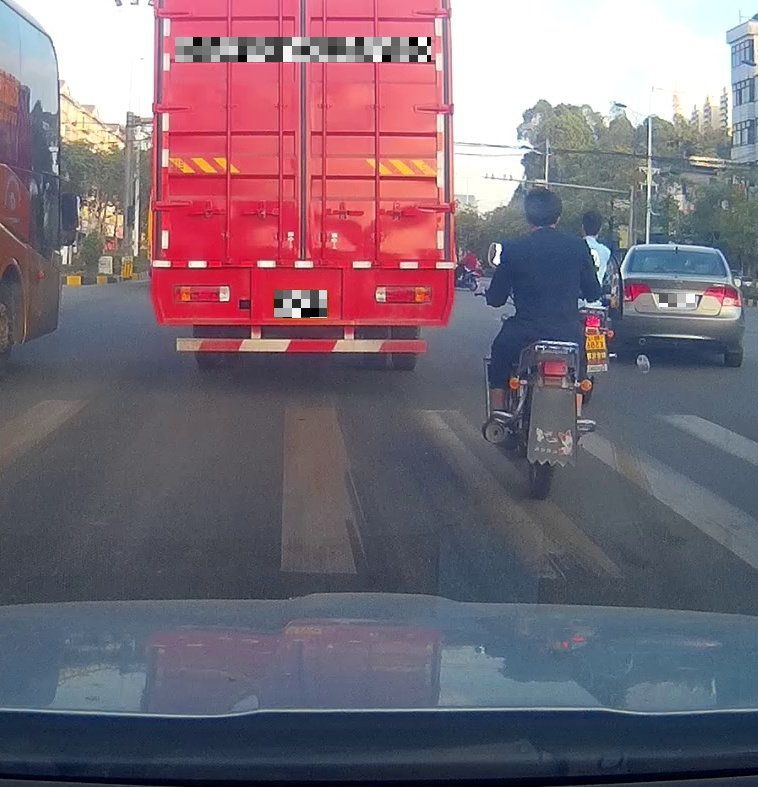L_light: (622, 283, 651, 302)
R_light: (703, 286, 741, 306)
T_light: (670, 250, 684, 255)
day-right: (619, 244, 744, 367)
plate_1: (175, 37, 431, 62)
plate_2: (274, 290, 327, 318)
plate_3: (659, 294, 695, 307)
